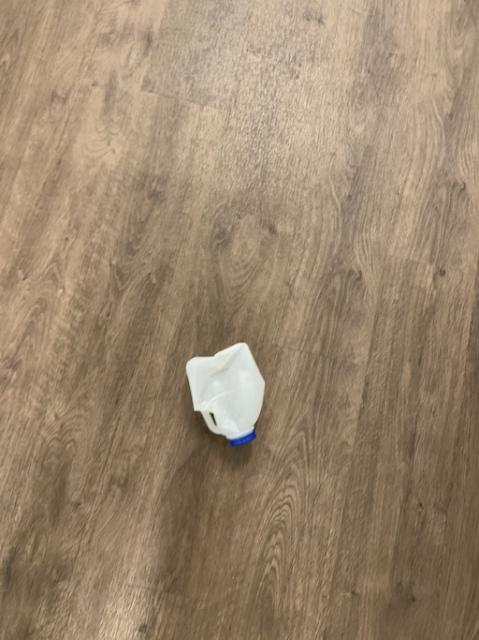plastic: (186, 342, 263, 445)
